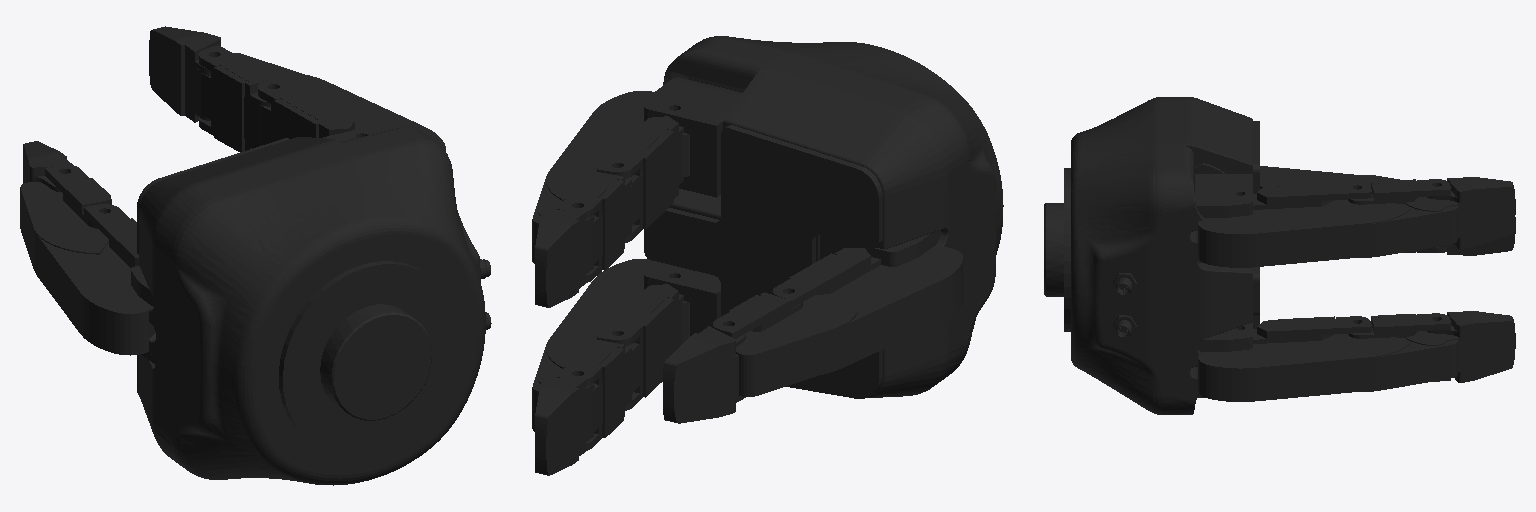
--- Render facts (derived) ---
Views: 3 orthographic renders of the robot side by side, from view 1: azimuth 30°, elevation 25°; view 2: azimuth 150°, elevation 25°; view 3: azimuth 270°, elevation 25°.
Model ur5e with 24 links and 23 joints (17 revolute, 6 fixed), rooted at base_link, posed joints at zero except 6 at the middle of their limits (finger_1_joint_1 = 0.6357, finger_1_joint_3 = -0.637, finger_2_joint_1 = 0.6357, finger_2_joint_3 = -0.637, finger_middle_joint_1 = 0.6357, finger_middle_joint_3 = -0.637).
Visible links, largest first — view 1: palm, finger_middle_link_1, finger_2_link_1, finger_middle_link_2, finger_2_link_2, finger_2_link_3, finger_middle_link_3, finger_middle_link_0; view 2: palm, finger_middle_link_1, finger_2_link_1, finger_1_link_1, finger_middle_link_2, finger_middle_link_3, finger_2_link_0, finger_2_link_3, finger_1_link_3, finger_2_link_2, finger_1_link_2, finger_1_link_0 (+1 smaller); view 3: palm, finger_1_link_1, finger_2_link_1, finger_1_link_2, finger_2_link_2, finger_1_link_3, finger_2_link_3, finger_2_link_0, finger_middle_link_1, finger_1_link_0, finger_middle_link_3, finger_middle_link_2.
Link boxes in pixels (x1,y1,x2,y2): palm: [137, 126, 491, 485]; finger_middle_link_1: [36, 204, 155, 355]; finger_2_link_1: [258, 71, 445, 150]; finger_middle_link_2: [20, 164, 111, 275]; finger_2_link_2: [199, 45, 301, 151]; finger_2_link_3: [149, 26, 259, 122]; finger_middle_link_3: [23, 141, 72, 191]; finger_middle_link_0: [131, 266, 155, 363]; palm: [644, 36, 1003, 398]; finger_middle_link_1: [773, 246, 962, 374]; finger_2_link_1: [546, 91, 689, 242]; finger_1_link_1: [546, 259, 689, 410]; finger_middle_link_2: [713, 292, 858, 402]; finger_middle_link_3: [663, 326, 745, 423]; finger_2_link_0: [644, 77, 742, 197]; finger_2_link_3: [535, 201, 594, 307]; finger_1_link_3: [535, 369, 594, 475]; finger_2_link_2: [532, 171, 632, 282]; finger_1_link_2: [532, 339, 632, 450]; finger_1_link_0: [644, 261, 720, 335]; palm: [1044, 97, 1259, 414]; finger_1_link_1: [1198, 316, 1410, 401]; finger_2_link_1: [1198, 182, 1410, 267]; finger_1_link_2: [1348, 313, 1457, 391]; finger_2_link_2: [1348, 179, 1457, 257]; finger_1_link_3: [1405, 311, 1515, 382]; finger_2_link_3: [1405, 177, 1515, 248]; finger_2_link_0: [1190, 174, 1252, 262]; finger_middle_link_1: [1260, 166, 1370, 188]; finger_1_link_0: [1190, 322, 1252, 397]; finger_middle_link_3: [1447, 217, 1515, 255]; finger_middle_link_2: [1322, 175, 1446, 252].
Size in the robot's own frame: 0.1575 by 0.2291 by 0.1302 metres.
13 mesh visuals loaded from 12 distinct referenced files (5 Collada DAE); not drawn: 7 (reference not matched to a file when rendering).

The robot description file, URDF, robot "ur5e":
<?xml version="1.0" ?>
<!-- =================================================================================== -->
<!-- |    This document was autogenerated by xacro from ur.urdf.xacro                  | -->
<!-- |    EDITING THIS FILE BY HAND IS NOT RECOMMENDED                                 | -->
<!-- =================================================================================== -->
<robot name="ur5e">
  <!--
    Based on https://github.com/UniversalRobots/Universal_Robots_ROS2_Driver
    and https://github.com/ros-industrial/robotiq.
  -->
  <webots>
    <plugin type="webots_ros2_control::Ros2Control"/>
  </webots>
  <!--
    NOTE the macro defined in this file is NOT part of the public API of this
          package. Users CANNOT rely on this file being available, or stored in
          this location. Nor can they rely on the existence of the macro.
  -->
  <!-- ros2_control related parameters -->
  <ros2_control name="WebotsControl" type="system">
    <hardware>
      <plugin>webots_ros2_control::Ros2ControlSystem</plugin>
    </hardware>
    <joint name="shoulder_pan_joint">
      <command_interface name="position">
        </command_interface>
      <state_interface name="position"/>
      <state_interface name="velocity"/>
      <state_interface name="effort"/>
      <param name="initial_position">0.0</param>
      <!-- initial position for the FakeSystem -->
    </joint>
    <joint name="shoulder_lift_joint">
      <command_interface name="position">
        </command_interface>
      <state_interface name="position"/>
      <state_interface name="velocity"/>
      <state_interface name="effort"/>
      <param name="initial_position">-1.57</param>
      <!-- initial position for the FakeSystem -->
    </joint>
    <joint name="elbow_joint">
      <command_interface name="position">
        </command_interface>
      <state_interface name="position"/>
      <state_interface name="velocity"/>
      <state_interface name="effort"/>
      <param name="initial_position">0.0</param>
      <!-- initial position for the FakeSystem -->
    </joint>
    <joint name="wrist_1_joint">
      <command_interface name="position">
        </command_interface>
      <state_interface name="position"/>
      <state_interface name="velocity"/>
      <state_interface name="effort"/>
      <param name="initial_position">-1.57</param>
      <!-- initial position for the FakeSystem -->
    </joint>
    <joint name="wrist_2_joint">
      <command_interface name="position">
        </command_interface>
      <state_interface name="position"/>
      <state_interface name="velocity"/>
      <state_interface name="effort"/>
      <param name="initial_position">0.0</param>
      <!-- initial position for the FakeSystem -->
    </joint>
    <joint name="wrist_3_joint">
      <command_interface name="position">
        </command_interface>
      <state_interface name="position"/>
      <state_interface name="velocity"/>
      <state_interface name="effort"/>
      <param name="initial_position">0.0</param>
      <!-- initial position for the FakeSystem -->
    </joint>
    <sensor name="tcp_fts_sensor">
      <state_interface name="force.x"/>
      <state_interface name="force.y"/>
      <state_interface name="force.z"/>
      <state_interface name="torque.x"/>
      <state_interface name="torque.y"/>
      <state_interface name="torque.z"/>
    </sensor>
    <joint name="wrist_3_joint">
      <command_interface name="position">
          </command_interface>
      <state_interface name="position"/>
      <state_interface name="velocity"/>
      <state_interface name="effort"/>
      <param name="initial_position">0.0</param>
      <!-- initial position for the FakeSystem -->
    </joint>
    <sensor name="tcp_fts_sensor">
      <state_interface name="force.x"/>
      <state_interface name="force.y"/>
      <state_interface name="force.z"/>
      <state_interface name="torque.x"/>
      <state_interface name="torque.y"/>
      <state_interface name="torque.z"/>
    </sensor>
    <!-- ROBOTIQ 3F Gripper -->
    <joint name="palm_finger_1_joint">
      <state_interface name="position"/>
      <command_interface name="position"/>
    </joint>
    <joint name="finger_1_joint_1">
      <state_interface name="position"/>
      <command_interface name="position"/>
    </joint>
    <joint name="finger_1_joint_2">
      <state_interface name="position"/>
      <command_interface name="position"/>
    </joint>
    <joint name="finger_1_joint_3">
      <state_interface name="position"/>
      <command_interface name="position"/>
    </joint>
    <joint name="palm_finger_2_joint">
      <state_interface name="position"/>
      <command_interface name="position"/>
    </joint>
    <joint name="finger_2_joint_1">
      <state_interface name="position"/>
      <command_interface name="position"/>
    </joint>
    <joint name="finger_2_joint_2">
      <state_interface name="position"/>
      <command_interface name="position"/>
    </joint>
    <joint name="finger_2_joint_3">
      <state_interface name="position"/>
      <command_interface name="position"/>
    </joint>
    <joint name="finger_middle_joint_1">
      <state_interface name="position"/>
      <command_interface name="position"/>
    </joint>
    <joint name="finger_middle_joint_2">
      <state_interface name="position"/>
      <command_interface name="position"/>
    </joint>
    <joint name="finger_middle_joint_3">
      <state_interface name="position"/>
      <command_interface name="position"/>
    </joint>
  </ros2_control>
  <!-- Add URDF transmission elements (for ros_control) -->
  <!--<xacro:ur_arm_transmission prefix="${prefix}" hw_interface="${transmission_hw_interface}" />-->
  <!-- Placeholder for ros2_control transmission which don't yet exist -->
  <!-- links -  main serial chain -->
  <link name="base_link"/>
  <link name="base_link_inertia">
    <visual>
      <origin rpy="0 0 3.141592653589793" xyz="0 0 0"/>
      <geometry>
        <mesh filename="package://resource/ur_description/meshes/ur5e/visual/base.dae"/>
      </geometry>
      <material name="LightGrey">
        <color rgba="0.7 0.7 0.7 1.0"/>
      </material>
    </visual>
    <collision>
      <origin rpy="0 0 3.141592653589793" xyz="0 0 0"/>
      <geometry>
        <mesh filename="package://resource/ur_description/meshes/ur5e/collision/base.stl"/>
      </geometry>
    </collision>
    <inertial>
      <mass value="4.0"/>
      <origin rpy="0 0 0" xyz="0 0 0"/>
      <inertia ixx="0.00443333156" ixy="0.0" ixz="0.0" iyy="0.00443333156" iyz="0.0" izz="0.0072"/>
    </inertial>
  </link>
  <link name="shoulder_link">
    <visual>
      <origin rpy="0 0 3.141592653589793" xyz="0 0 0"/>
      <geometry>
        <mesh filename="package://resource/ur_description/meshes/ur5e/visual/shoulder.dae"/>
      </geometry>
      <material name="LightGrey">
        <color rgba="0.7 0.7 0.7 1.0"/>
      </material>
    </visual>
    <collision>
      <origin rpy="0 0 3.141592653589793" xyz="0 0 0"/>
      <geometry>
        <mesh filename="package://resource/ur_description/meshes/ur5e/collision/shoulder.stl"/>
      </geometry>
    </collision>
    <inertial>
      <mass value="3.7"/>
      <origin rpy="0 0 0" xyz="0 0 0"/>
      <inertia ixx="0.010267495893" ixy="0.0" ixz="0.0" iyy="0.010267495893" iyz="0.0" izz="0.00666"/>
    </inertial>
  </link>
  <link name="upper_arm_link">
    <visual>
      <origin rpy="1.5707963267948966 0 -1.5707963267948966" xyz="0 0 0.138"/>
      <geometry>
        <mesh filename="package://resource/ur_description/meshes/ur5e/visual/upperarm.dae"/>
      </geometry>
      <material name="LightGrey">
        <color rgba="0.7 0.7 0.7 1.0"/>
      </material>
    </visual>
    <collision>
      <origin rpy="1.5707963267948966 0 -1.5707963267948966" xyz="0 0 0.138"/>
      <geometry>
        <mesh filename="package://resource/ur_description/meshes/ur5e/collision/upperarm.stl"/>
      </geometry>
    </collision>
    <inertial>
      <mass value="8.393"/>
      <origin rpy="0 1.5707963267948966 0" xyz="-0.2125 0.0 0.138"/>
      <inertia ixx="0.1338857818623325" ixy="0.0" ixz="0.0" iyy="0.1338857818623325" iyz="0.0" izz="0.0151074"/>
    </inertial>
  </link>
  <link name="forearm_link">
    <visual>
      <origin rpy="1.5707963267948966 0 -1.5707963267948966" xyz="0 0 0.007"/>
      <geometry>
        <mesh filename="package://resource/ur_description/meshes/ur5e/visual/forearm.dae"/>
      </geometry>
      <material name="LightGrey">
        <color rgba="0.7 0.7 0.7 1.0"/>
      </material>
    </visual>
    <collision>
      <origin rpy="1.5707963267948966 0 -1.5707963267948966" xyz="0 0 0.007"/>
      <geometry>
        <mesh filename="package://resource/ur_description/meshes/ur5e/collision/forearm.stl"/>
      </geometry>
    </collision>
    <inertial>
      <mass value="2.275"/>
      <origin rpy="0 1.5707963267948966 0" xyz="-0.1961 0.0 0.007"/>
      <inertia ixx="0.031209355099586295" ixy="0.0" ixz="0.0" iyy="0.031209355099586295" iyz="0.0" izz="0.004095"/>
    </inertial>
  </link>
  <link name="wrist_1_link">
    <visual>
      <origin rpy="1.5707963267948966 0 0" xyz="0 0 -0.127"/>
      <geometry>
        <mesh filename="package://resource/ur_description/meshes/ur5e/visual/wrist1.dae"/>
      </geometry>
      <material name="LightGrey">
        <color rgba="0.7 0.7 0.7 1.0"/>
      </material>
    </visual>
    <collision>
      <origin rpy="1.5707963267948966 0 0" xyz="0 0 -0.127"/>
      <geometry>
        <mesh filename="package://resource/ur_description/meshes/ur5e/collision/wrist1.stl"/>
      </geometry>
    </collision>
    <inertial>
      <mass value="1.219"/>
      <origin rpy="0 0 0" xyz="0 0 0"/>
      <inertia ixx="0.0025598989760400002" ixy="0.0" ixz="0.0" iyy="0.0025598989760400002" iyz="0.0" izz="0.0021942"/>
    </inertial>
  </link>
  <link name="wrist_2_link">
    <visual>
      <origin rpy="0 0 0" xyz="0 0 -0.0997"/>
      <geometry>
        <mesh filename="package://resource/ur_description/meshes/ur5e/visual/wrist2.dae"/>
      </geometry>
      <material name="LightGrey">
        <color rgba="0.7 0.7 0.7 1.0"/>
      </material>
    </visual>
    <collision>
      <origin rpy="0 0 0" xyz="0 0 -0.0997"/>
      <geometry>
        <mesh filename="package://resource/ur_description/meshes/ur5e/collision/wrist2.stl"/>
      </geometry>
    </collision>
    <inertial>
      <mass value="1.219"/>
      <origin rpy="0 0 0" xyz="0 0 0"/>
      <inertia ixx="0.0025598989760400002" ixy="0.0" ixz="0.0" iyy="0.0025598989760400002" iyz="0.0" izz="0.0021942"/>
    </inertial>
  </link>
  <link name="wrist_3_link">
    <visual>
      <origin rpy="1.5707963267948966 0 0" xyz="0 0 -0.0989"/>
      <geometry>
        <mesh filename="package://resource/ur_description/meshes/ur5e/visual/wrist3.dae"/>
      </geometry>
      <material name="LightGrey">
        <color rgba="0.7 0.7 0.7 1.0"/>
      </material>
    </visual>
    <collision>
      <origin rpy="1.5707963267948966 0 0" xyz="0 0 -0.0989"/>
      <geometry>
        <mesh filename="package://resource/ur_description/meshes/ur5e/collision/wrist3.stl"/>
      </geometry>
    </collision>
    <inertial>
      <mass value="0.1879"/>
      <origin rpy="0 0 0" xyz="0.0 0.0 -0.0229"/>
      <inertia ixx="9.890410052167731e-05" ixy="0.0" ixz="0.0" iyy="9.890410052167731e-05" iyz="0.0" izz="0.0001321171875"/>
    </inertial>
  </link>
  <!-- joints - main serial chain -->
  <joint name="base_link-base_link_inertia" type="fixed">
    <parent link="base_link"/>
    <child link="base_link_inertia"/>
    <!-- 'base_link' is REP-103 aligned (so X+ forward), while the internal
           frames of the robot/controller have X+ pointing backwards.
           Use the joint between 'base_link' and 'base_link_inertia' (a dummy
           link/frame) to introduce the necessary rotation over Z (of pi rad).
      -->
    <origin rpy="0 0 3.141592653589793" xyz="0 0 0"/>
  </joint>
  <joint name="shoulder_pan_joint" type="revolute">
    <parent link="base_link_inertia"/>
    <child link="shoulder_link"/>
    <origin rpy="0 0 0" xyz="0 0 0.1625"/>
    <axis xyz="0 0 1"/>
    <limit effort="150.0" lower="-6.283185307179586" upper="6.283185307179586" velocity="3.141592653589793"/>
    <dynamics damping="0" friction="0"/>
  </joint>
  <joint name="shoulder_lift_joint" type="revolute">
    <parent link="shoulder_link"/>
    <child link="upper_arm_link"/>
    <origin rpy="1.570796327 0 0" xyz="0 0 0"/>
    <axis xyz="0 0 1"/>
    <limit effort="150.0" lower="-6.283185307179586" upper="6.283185307179586" velocity="3.141592653589793"/>
    <dynamics damping="0" friction="0"/>
  </joint>
  <joint name="elbow_joint" type="revolute">
    <parent link="upper_arm_link"/>
    <child link="forearm_link"/>
    <origin rpy="0 0 0" xyz="-0.425 0 0"/>
    <axis xyz="0 0 1"/>
    <limit effort="150.0" lower="-3.141592653589793" upper="3.141592653589793" velocity="3.141592653589793"/>
    <dynamics damping="0" friction="0"/>
  </joint>
  <joint name="wrist_1_joint" type="revolute">
    <parent link="forearm_link"/>
    <child link="wrist_1_link"/>
    <origin rpy="0 0 0" xyz="-0.3922 0 0.1333"/>
    <axis xyz="0 0 1"/>
    <limit effort="28.0" lower="-6.283185307179586" upper="6.283185307179586" velocity="3.141592653589793"/>
    <dynamics damping="0" friction="0"/>
  </joint>
  <joint name="wrist_2_joint" type="revolute">
    <parent link="wrist_1_link"/>
    <child link="wrist_2_link"/>
    <origin rpy="1.570796327 0 0" xyz="0 -0.0997 -2.044881182297852e-11"/>
    <axis xyz="0 0 1"/>
    <limit effort="28.0" lower="-6.283185307179586" upper="6.283185307179586" velocity="3.141592653589793"/>
    <dynamics damping="0" friction="0"/>
  </joint>
  <joint name="wrist_3_joint" type="revolute">
    <parent link="wrist_2_link"/>
    <child link="wrist_3_link"/>
    <origin rpy="1.570796326589793 3.141592653589793 3.141592653589793" xyz="0 0.0996 -2.042830148012698e-11"/>
    <axis xyz="0 0 1"/>
    <limit effort="28.0" lower="-6.283185307179586" upper="6.283185307179586" velocity="3.141592653589793"/>
    <dynamics damping="0" friction="0"/>
  </joint>
  <!-- ROS-Industrial 'base' frame - base_link to UR 'Base' Coordinates transform -->
  <link name="base"/>
  <joint name="base_link-base_fixed_joint" type="fixed">
    <!-- Note the rotation over Z of pi radians - as base_link is REP-103
           aligned (i.e., has X+ forward, Y+ left and Z+ up), this is needed
           to correctly align 'base' with the 'Base' coordinate system of
           the UR controller.
      -->
    <origin rpy="0 0 3.141592653589793" xyz="0 0 0"/>
    <parent link="base_link"/>
    <child link="base"/>
  </joint>
  <!-- ROS-Industrial 'flange' frame - attachment point for EEF models -->
  <link name="flange"/>
  <joint name="wrist_3-flange" type="fixed">
    <parent link="wrist_3_link"/>
    <child link="flange"/>
    <origin rpy="0 -1.5707963267948966 -1.5707963267948966" xyz="0 0 0"/>
  </joint>
  <!-- ROS-Industrial 'tool0' frame - all-zeros tool frame -->
  <link name="tool0"/>
  <joint name="flange-tool0" type="fixed">
    <!-- default toolframe - X+ left, Y+ up, Z+ front -->
    <origin rpy="1.5707963267948966 0 1.5707963267948966" xyz="0 0 0"/>
    <parent link="flange"/>
    <child link="tool0"/>
  </joint>
  <!-- link list -->
  <link name="finger_1_link_0">
    <visual>
      <origin rpy="0 0 0" xyz="0.020 0 0"/>
      <geometry>
        <mesh filename="package://resource/ur_description/robotiq_3f_gripper_visualization/meshes/robotiq-3f-gripper_articulated/visual/link_0.dae"/>
      </geometry>
      <material name="gray">
        <color rgba="0.2 0.2 0.2 1"/>
      </material>
    </visual>
    <collision>
      <origin rpy="0 0 0" xyz="0.020 0 0"/>
      <geometry>
        <mesh filename="package://resource/ur_description/robotiq_3f_gripper_visualization/meshes/robotiq-3f-gripper_articulated/collision/link_0.STL"/>
      </geometry>
      <material name="yellow">
        <color rgba="0 1 1 1"/>
      </material>
    </collision>
    <inertial>
      <origin rpy="0 0 0" xyz="0 0 0"/>
      <mass value="0.05"/>
      <inertia ixx="0.01" ixy="-0.00002" ixz="0.00001" iyy="0.0008" iyz="0" izz="0.001"/>
    </inertial>
  </link>
  <link name="finger_1_link_1">
    <visual>
      <origin rpy="0 0 -0.52" xyz="0.050 -.028 0"/>
      <geometry>
        <mesh filename="package://resource/ur_description/robotiq_3f_gripper_visualization/meshes/robotiq-3f-gripper_articulated/visual/link_1.dae"/>
      </geometry>
      <material name="gray"/>
    </visual>
    <collision>
      <origin rpy="0 0 -0.52" xyz="0.050 -.028 0"/>
      <geometry>
        <mesh filename="package://resource/ur_description/robotiq_3f_gripper_visualization/meshes/robotiq-3f-gripper_articulated/collision/link_1.STL"/>
      </geometry>
      <material name="yellow"/>
    </collision>
    <inertial>
      <origin rpy="0 0 0" xyz="0 0 0"/>
      <mass value="0.15"/>
      <inertia ixx="0.001859" ixy="-0.000376" ixz="0.000028" iyy="0.012756" iyz="0" izz="0.0024"/>
    </inertial>
  </link>
  <link name="finger_1_link_2">
    <!--
			NOTE: This link has an offset in the z-direction based on the models that were
			used to generate grap-it poses.  With the offset below the model appears visually
			correct, but it is suspect.
			-->
    <visual>
      <origin rpy="0 0 0" xyz="0.039 0 0.0075"/>
      <geometry>
        <mesh filename="package://resource/ur_description/robotiq_3f_gripper_visualization/meshes/robotiq-3f-gripper_articulated/visual/link_2.dae"/>
      </geometry>
      <material name="gray"/>
    </visual>
    <collision>
      <origin rpy="0 0 0" xyz="0.039 0 0.0075"/>
      <geometry>
        <mesh filename="package://resource/ur_description/robotiq_3f_gripper_visualization/meshes/robotiq-3f-gripper_articulated/collision/link_2.STL"/>
      </geometry>
      <material name="yellow"/>
    </collision>
    <inertial>
      <origin rpy="0 0 0" xyz="0 0 0"/>
      <mass value="0.15"/>
      <inertia ixx="0.001859" ixy="-0.000376" ixz="0.000028" iyy="0.012756" iyz="0" izz="0.0024"/>
    </inertial>
  </link>
  <link name="finger_1_link_3">
    <visual>
      <origin rpy="0 0 0.52" xyz="0 0 0"/>
      <geometry>
        <mesh filename="package://resource/ur_description/robotiq_3f_gripper_visualization/meshes/robotiq-3f-gripper_articulated/visual/link_3.dae"/>
      </geometry>
      <material name="gray"/>
    </visual>
    <collision>
      <origin rpy="0 0 0.52" xyz="0 0 0"/>
      <geometry>
        <mesh filename="package://resource/ur_description/robotiq_3f_gripper_visualization/meshes/robotiq-3f-gripper_articulated/collision/link_3.STL"/>
      </geometry>
      <material name="yellow"/>
    </collision>
    <inertial>
      <origin rpy="0 0 0" xyz="0 0 0"/>
      <mass value="0.05"/>
      <inertia ixx="0.001239" ixy="-0.000251" ixz="0.000019" iyy="0.00085" iyz="0" izz="0.001632"/>
    </inertial>
  </link>
  <!-- end of link list -->
  <!-- joint list -->
  <joint name="finger_1_joint_1" type="revolute">
    <parent link="finger_1_link_0"/>
    <child link="finger_1_link_1"/>
    <axis xyz="0 0 1"/>
    <origin rpy="0 0 0" xyz="0.020 0 0"/>
    <limit effort="100" lower="0.0495" upper="1.2218" velocity="100"/>
  </joint>
  <joint name="finger_1_joint_2" type="revolute">
    <parent link="finger_1_link_1"/>
    <child link="finger_1_link_2"/>
    <axis xyz="0 0 1"/>
    <origin rpy="0 0 -0.52" xyz="0.050 -.028 0"/>
    <limit effort="100" lower="0.0" upper="1.5708" velocity="100"/>
  </joint>
  <joint name="finger_1_joint_3" type="revolute">
    <parent link="finger_1_link_2"/>
    <child link="finger_1_link_3"/>
    <axis xyz="0 0 1"/>
    <origin rpy="0 0 0" xyz="0.039 0 0"/>
    <limit effort="100" lower="-1.2217" upper="-0.0523" velocity="100"/>
  </joint>
  <!-- end of joint list -->
  <!-- link list -->
  <link name="finger_2_link_0">
    <visual>
      <origin rpy="0 0 0" xyz="0.020 0 0"/>
      <geometry>
        <mesh filename="package://resource/ur_description/robotiq_3f_gripper_visualization/meshes/robotiq-3f-gripper_articulated/visual/link_0.dae"/>
      </geometry>
      <material name="gray">
        <color rgba="0.2 0.2 0.2 1"/>
      </material>
    </visual>
    <collision>
      <origin rpy="0 0 0" xyz="0.020 0 0"/>
      <geometry>
        <mesh filename="package://resource/ur_description/robotiq_3f_gripper_visualization/meshes/robotiq-3f-gripper_articulated/collision/link_0.STL"/>
      </geometry>
      <material name="yellow">
        <color rgba="0 1 1 1"/>
      </material>
    </collision>
    <inertial>
      <origin rpy="0 0 0" xyz="0 0 0"/>
      <mass value="0.05"/>
      <inertia ixx="0.01" ixy="-0.00002" ixz="0.00001" iyy="0.0008" iyz="0" izz="0.001"/>
    </inertial>
  </link>
  <link name="finger_2_link_1">
    <visual>
      <origin rpy="0 0 -0.52" xyz="0.050 -.028 0"/>
      <geometry>
        <mesh filename="package://resource/ur_description/robotiq_3f_gripper_visualization/meshes/robotiq-3f-gripper_articulated/visual/link_1.dae"/>
      </geometry>
      <material name="gray"/>
    </visual>
    <collision>
      <origin rpy="0 0 -0.52" xyz="0.050 -.028 0"/>
      <geometry>
        <mesh filename="package://resource/ur_description/robotiq_3f_gripper_visualization/meshes/robotiq-3f-gripper_articulated/collision/link_1.STL"/>
      </geometry>
      <material name="yellow"/>
    </collision>
    <inertial>
      <origin rpy="0 0 0" xyz="0 0 0"/>
      <mass value="0.15"/>
      <inertia ixx="0.001859" ixy="-0.000376" ixz="0.000028" iyy="0.012756" iyz="0" izz="0.0024"/>
    </inertial>
  </link>
  <link name="finger_2_link_2">
    <!--
			NOTE: This link has an offset in the z-direction based on the models that were
			used to generate grap-it poses.  With the offset below the model appears visually
			correct, but it is suspect.
			-->
    <visual>
      <origin rpy="0 0 0" xyz="0.039 0 0.0075"/>
      <geometry>
        <mesh filename="package://resource/ur_description/robotiq_3f_gripper_visualization/meshes/robotiq-3f-gripper_articulated/visual/link_2.dae"/>
      </geometry>
      <material name="gray"/>
    </visual>
    <collision>
      <origin rpy="0 0 0" xyz="0.039 0 0.0075"/>
      <geometry>
        <mesh filename="package://resource/ur_description/robotiq_3f_gripper_visualization/meshes/robotiq-3f-gripper_articulated/collision/link_2.STL"/>
      </geometry>
      <material name="yellow"/>
    </collision>
    <inertial>
      <origin rpy="0 0 0" xyz="0 0 0"/>
      <mass value="0.15"/>
      <inertia ixx="0.001859" ixy="-0.000376" ixz="0.000028" iyy="0.012756" iyz="0" izz="0.0024"/>
    </inertial>
  </link>
  <link name="finger_2_link_3">
    <visual>
      <origin rpy="0 0 0.52" xyz="0 0 0"/>
      <geometry>
        <mesh filename="package://resource/ur_description/robotiq_3f_gripper_visualization/meshes/robotiq-3f-gripper_articulated/visual/link_3.dae"/>
      </geometry>
      <material name="gray"/>
    </visual>
    <collision>
      <origin rpy="0 0 0.52" xyz="0 0 0"/>
      <geometry>
        <mesh filename="package://resource/ur_description/robotiq_3f_gripper_visualization/meshes/robotiq-3f-gripper_articulated/collision/link_3.STL"/>
      </geometry>
      <material name="yellow"/>
    </collision>
    <inertial>
      <origin rpy="0 0 0" xyz="0 0 0"/>
      <mass value="0.05"/>
      <inertia ixx="0.001239" ixy="-0.000251" ixz="0.000019" iyy="0.00085" iyz="0" izz="0.001632"/>
    </inertial>
  </link>
  <!-- end of link list -->
  <!-- joint list -->
  <joint name="finger_2_joint_1" type="revolute">
    <parent link="finger_2_link_0"/>
    <child link="finger_2_link_1"/>
    <axis xyz="0 0 1"/>
    <origin rpy="0 0 0" xyz="0.020 0 0"/>
    <limit effort="100" lower="0.0495" upper="1.2218" velocity="100"/>
  </joint>
  <joint name="finger_2_joint_2" type="revolute">
    <parent link="finger_2_link_1"/>
    <child link="finger_2_link_2"/>
    <axis xyz="0 0 1"/>
    <origin rpy="0 0 -0.52" xyz="0.050 -.028 0"/>
    <limit effort="100" lower="0.0" upper="1.5708" velocity="100"/>
  </joint>
  <joint name="finger_2_joint_3" type="revolute">
    <parent link="finger_2_link_2"/>
    <child link="finger_2_link_3"/>
    <axis xyz="0 0 1"/>
    <origin rpy="0 0 0" xyz="0.039 0 0"/>
    <limit effort="100" lower="-1.2217" upper="-0.0523" velocity="100"/>
  </joint>
  <!-- end of joint list -->
  <!-- link list -->
  <link name="finger_middle_link_0">
    <visual>
      <origin rpy="0 0 0" xyz="0.020 0 0"/>
      <geometry>
        <mesh filename="package://resource/ur_description/robotiq_3f_gripper_visualization/meshes/robotiq-3f-gripper_articulated/visual/link_0.dae"/>
      </geometry>
      <material name="gray">
        <color rgba="0.2 0.2 0.2 1"/>
      </material>
    </visual>
    <collision>
      <origin rpy="0 0 0" xyz="0.020 0 0"/>
      <geometry>
        <mesh filename="package://resource/ur_description/robotiq_3f_gripper_visualization/meshes/robotiq-3f-gripper_articulated/collision/link_0.STL"/>
      </geometry>
      <material name="yellow">
        <color rgba="0 1 1 1"/>
      </material>
    </collision>
    <inertial>
      <origin rpy="0 0 0" xyz="0 0 0"/>
      <mass value="0.05"/>
      <inertia ixx="0.01" ixy="-0.00002" ixz="0.00001" iyy="0.0008" iyz="0" izz="0.001"/>
    </inertial>
  </link>
  <link name="finger_middle_link_1">
    <visual>
      <origin rpy="0 0 -0.52" xyz="0.050 -.028 0"/>
      <geometry>
        <mesh filename="package://resource/ur_description/robotiq_3f_gripper_visualization/meshes/robotiq-3f-gripper_articulated/visual/link_1.dae"/>
      </geometry>
      <material name="gray"/>
    </visual>
    <collision>
      <origin rpy="0 0 -0.52" xyz="0.050 -.028 0"/>
      <geometry>
        <mesh filename="package://resource/ur_description/robotiq_3f_gripper_visualization/meshes/robotiq-3f-gripper_articulated/collision/link_1.STL"/>
      </geometry>
      <material name="yellow"/>
    </collision>
    <inertial>
      <origin rpy="0 0 0" xyz="0 0 0"/>
      <mass value="0.15"/>
      <inertia ixx="0.001859" ixy="-0.000376" ixz="0.000028" iyy="0.012756" iyz="0" izz="0.0024"/>
    </inertial>
  </link>
  <link name="finger_middle_link_2">
    <!--
			NOTE: This link has an offset in the z-direction based on the models that were
			used to generate grap-it poses.  With the offset below the model appears visually
			correct, but it is suspect.
			-->
    <visual>
      <origin rpy="0 0 0" xyz="0.039 0 0.0075"/>
      <geometry>
        <mesh filename="package://resource/ur_description/robotiq_3f_gripper_visualization/meshes/robotiq-3f-gripper_articulated/visual/link_2.dae"/>
      </geometry>
      <material name="gray"/>
    </visual>
    <collision>
      <origin rpy="0 0 0" xyz="0.039 0 0.0075"/>
      <geometry>
        <mesh filename="package://resource/ur_description/robotiq_3f_gripper_visualization/meshes/robotiq-3f-gripper_articulated/collision/link_2.STL"/>
      </geometry>
      <material name="yellow"/>
    </collision>
    <inertial>
      <origin rpy="0 0 0" xyz="0 0 0"/>
      <mass value="0.15"/>
      <inertia ixx="0.001859" ixy="-0.000376" ixz="0.000028" iyy="0.012756" iyz="0" izz="0.0024"/>
    </inertial>
  </link>
  <link name="finger_middle_link_3">
    <visual>
      <origin rpy="0 0 0.52" xyz="0 0 0"/>
      <geometry>
        <mesh filename="package://resource/ur_description/robotiq_3f_gripper_visualization/meshes/robotiq-3f-gripper_articulated/visual/link_3.dae"/>
      </geometry>
      <material name="gray"/>
    </visual>
    <collision>
      <origin rpy="0 0 0.52" xyz="0 0 0"/>
      <geometry>
        <mesh filename="package://resource/ur_description/robotiq_3f_gripper_visualization/meshes/robotiq-3f-gripper_articulated/collision/link_3.STL"/>
      </geometry>
      <material name="yellow"/>
    </collision>
    <inertial>
      <origin rpy="0 0 0" xyz="0 0 0"/>
      <mass value="0.05"/>
      <inertia ixx="0.001239" ixy="-0.000251" ixz="0.000019" iyy="0.00085" iyz="0" izz="0.001632"/>
    </inertial>
  </link>
  <!-- end of link list -->
  <!-- joint list -->
  <joint name="finger_middle_joint_1" type="revolute">
    <parent link="finger_middle_link_0"/>
    <child link="finger_middle_link_1"/>
    <axis xyz="0 0 1"/>
    <origin rpy="0 0 0" xyz="0.020 0 0"/>
    <limit effort="100" lower="0.0495" upper="1.2218" velocity="100"/>
  </joint>
  <joint name="finger_middle_joint_2" type="revolute">
    <parent link="finger_middle_link_1"/>
    <child link="finger_middle_link_2"/>
    <axis xyz="0 0 1"/>
    <origin rpy="0 0 -0.52" xyz="0.050 -.028 0"/>
    <limit effort="100" lower="0.0" upper="1.5708" velocity="100"/>
  </joint>
  <joint name="finger_middle_joint_3" type="revolute">
    <parent link="finger_middle_link_2"/>
    <child link="finger_middle_link_3"/>
    <axis xyz="0 0 1"/>
    <origin rpy="0 0 0" xyz="0.039 0 0"/>
    <limit effort="100" lower="-1.2217" upper="-0.0523" velocity="100"/>
  </joint>
  <!-- end of joint list -->
  <!-- link list -->
  <link name="palm">
    <visual>
      <geometry>
        <mesh filename="package://resource/ur_description/robotiq_3f_gripper_visualization/meshes/robotiq-3f-gripper_articulated/visual/palm.dae"/>
      </geometry>
      <material name="gray">
        <color rgba="0.2 0.2 0.2 1"/>
      </material>
    </visual>
    <collision>
      <geometry>
        <mesh filename="package://resource/ur_description/robotiq_3f_gripper_visualization/meshes/robotiq-3f-gripper_articulated/collision/palm.STL"/>
      </geometry>
      <material name="yellow">
        <color rgba="0 1 1 1"/>
      </material>
    </collision>
  </link>
  <inertial>
    <origin rpy="0 0 0" xyz="0 0 0"/>
    <mass value="1.3"/>
    <inertia ixx="0.006012" ixy="0.000079" ixz="-0.00024" iyy="0.012892" iyz="0" izz="0.002435"/>
  </inertial>
  <!-- end of link list -->
  <!-- joint list -->
  <joint name="palm_finger_1_joint" type="revolute">
    <parent link="palm"/>
    <child link="finger_1_link_0"/>
    <axis xyz="0 1 0"/>
    <origin rpy="0 3.1416 -1.57" xyz="-0.0455 0.0214 0.036"/>
    <limit effort="100" lower="-0.1784" upper="0.192" velocity="100"/>
  </joint>
  <joint name="palm_finger_2_joint" type="revolute">
    <parent link="palm"/>
    <child link="finger_2_link_0"/>
    <axis xyz="0 1 0"/>
    <origin rpy="0 3.1416 -1.57" xyz="-0.0455 0.0214 -0.036"/>
    <limit effort="100" lower="-0.192" upper="0.1784" velocity="100"/>
  </joint>
  <joint name="palm_finger_middle_joint" type="fixed">
    <parent link="palm"/>
    <child link="finger_middle_link_0"/>
    <axis xyz="0 0 1"/>
    <origin rpy="0 0 1.57" xyz="0.0455 0.0214 0"/>
  </joint>
  <joint name="palm_tool0" type="fixed">
    <parent link="tool0"/>
    <child link="palm"/>
    <origin rpy="1.5708 0 0" xyz="0.0 0 0.045"/>
  </joint>
  <!-- end of joint list -->
</robot>
